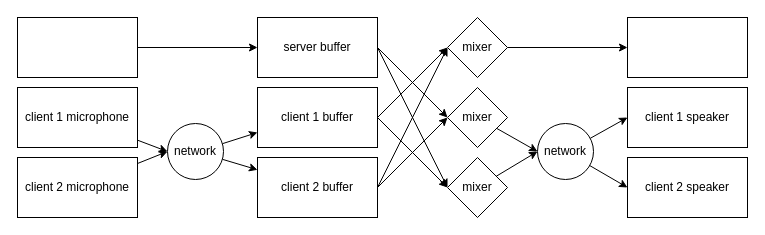
The diagram is 765 pixels wide and 235 high, and some of its shapes have lost their labels. The shapes that lost their labels are listed below. From the top down, each one's centre as x and y in pixels, then its label:
At pixel 77 47: "server microphone".
At pixel 687 47: "server speaker".
